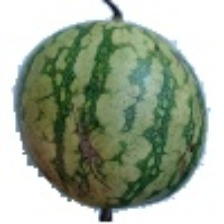watermelon: (33, 35, 168, 194)
